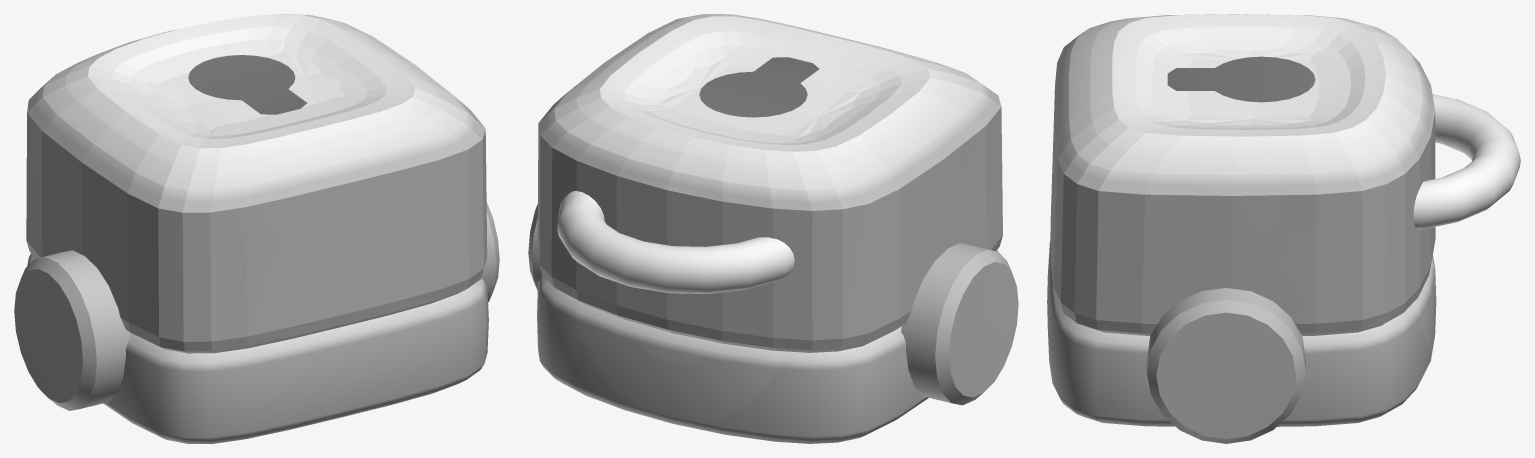
File: Cannon Locked.fbx
3 renders of one model, left to right at view 1: azimuth 30°, elevation 25°; view 2: azimuth 150°, elevation 25°; view 3: azimuth 270°, elevation 25°, orthographic.
Visible parts, largest first — view 1: Cannon_Locked, pCylinder9, pDisc1, pCylinder10; view 2: Cannon_Locked, pCylinder9, Lock, pDisc1, pCylinder10; view 3: Cannon_Locked, pCylinder10, Lock, pDisc1.
Part boxes in pixels (bbox=[...]): Cannon_Locked: bbox=[26, 14, 488, 443]; pCylinder9: bbox=[14, 250, 130, 410]; pDisc1: bbox=[188, 55, 306, 114]; pCylinder10: bbox=[481, 202, 499, 302]; Cannon_Locked: bbox=[537, 14, 1002, 443]; pCylinder9: bbox=[901, 243, 1018, 405]; Lock: bbox=[557, 191, 794, 293]; pDisc1: bbox=[699, 57, 819, 117]; pCylinder10: bbox=[528, 203, 542, 290]; Cannon_Locked: bbox=[1047, 14, 1436, 426]; pCylinder10: bbox=[1146, 288, 1305, 443]; Lock: bbox=[1413, 94, 1520, 229]; pDisc1: bbox=[1167, 56, 1315, 102].
Bounding box in the file's own units: 133 × 83.17 × 131.
Materials: 2 (2 with a texture image).
